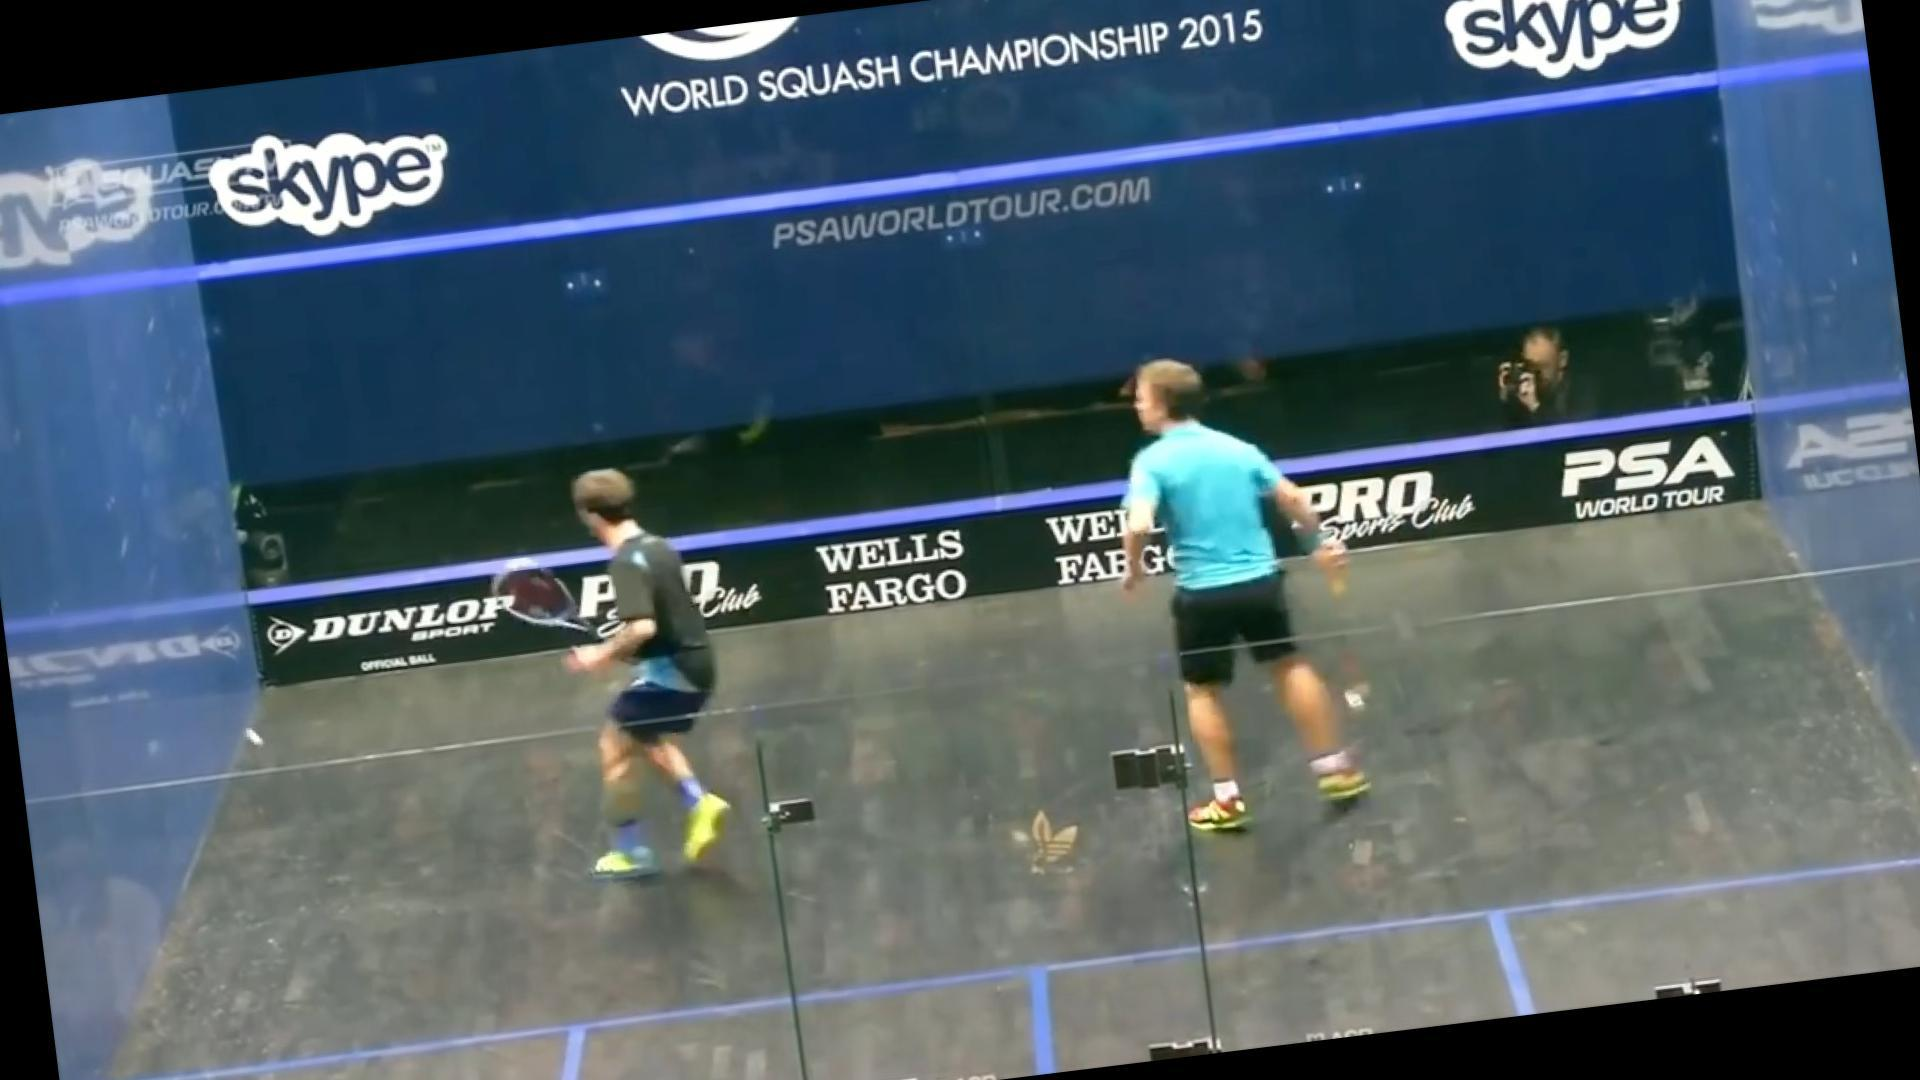Squash-Ball: (223, 703, 289, 766)
